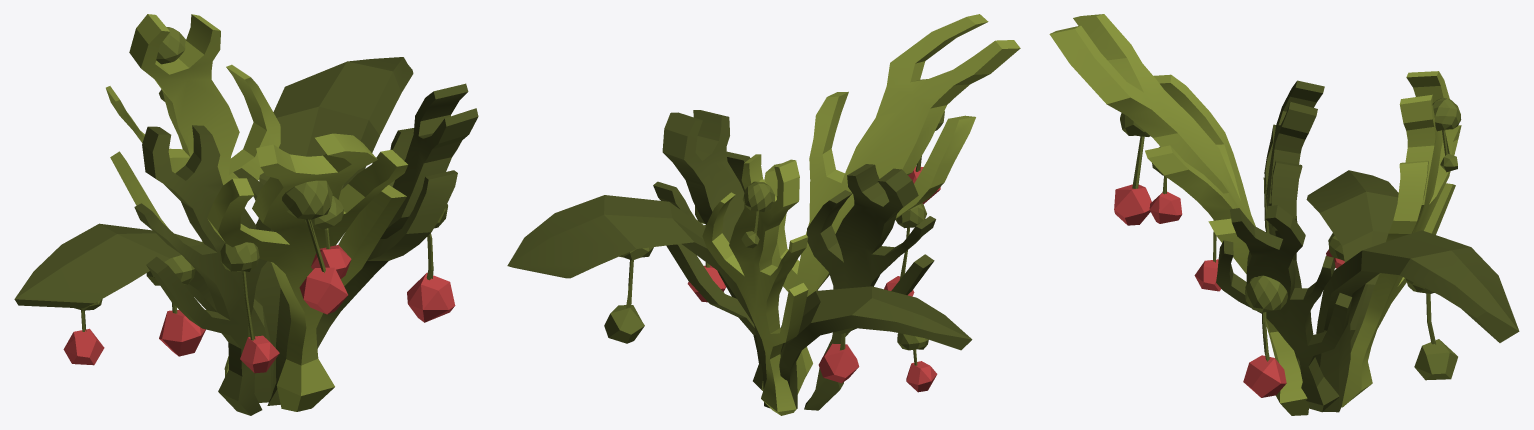
The model's file is ea_swamp_leaffruits_01a_pre_1_lev1.glb.
3 views of the same model, side by side, from view 1: azimuth 30°, elevation 25°; view 2: azimuth 150°, elevation 25°; view 3: azimuth 270°, elevation 25° (orthographic). The views are drawn at different scales.
Parts seen in each view (by area): view 1: ea_swamp_leaffruits_01a_pre_1_lev1; view 2: ea_swamp_leaffruits_01a_pre_1_lev1; view 3: ea_swamp_leaffruits_01a_pre_1_lev1.
Boxes of the visible parts, x1,y1,x2,y2 form: ea_swamp_leaffruits_01a_pre_1_lev1: [14, 14, 478, 415]; ea_swamp_leaffruits_01a_pre_1_lev1: [507, 14, 1020, 415]; ea_swamp_leaffruits_01a_pre_1_lev1: [1049, 14, 1519, 415].
Bounding box in the file's own units: 2.57 × 2.03 × 2.51.
Materials: 1 (1 with a texture image).
